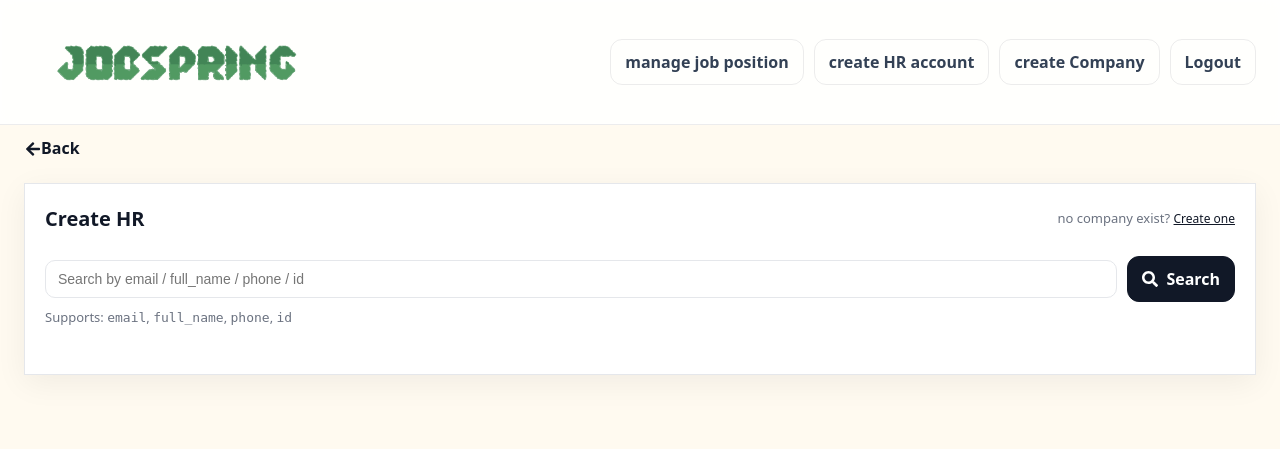
Scenario: shows backend error message on search failure
Type "x" into the field with placeholder "Search by email / full_name / phone / id" at (581, 279), box [45, 260, 1117, 298]
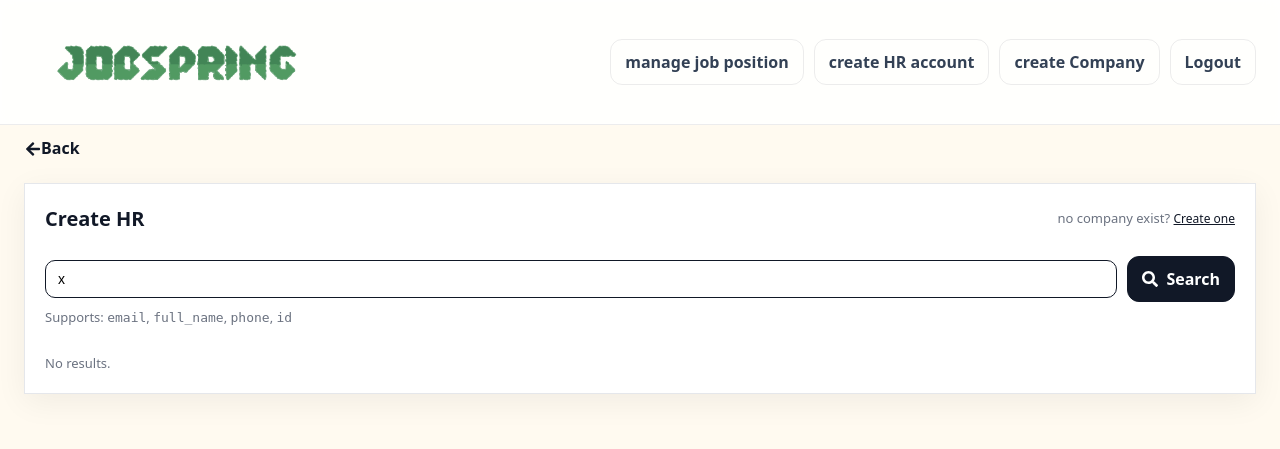
Click the button "Search" at (1181, 279), box [1127, 256, 1235, 302]
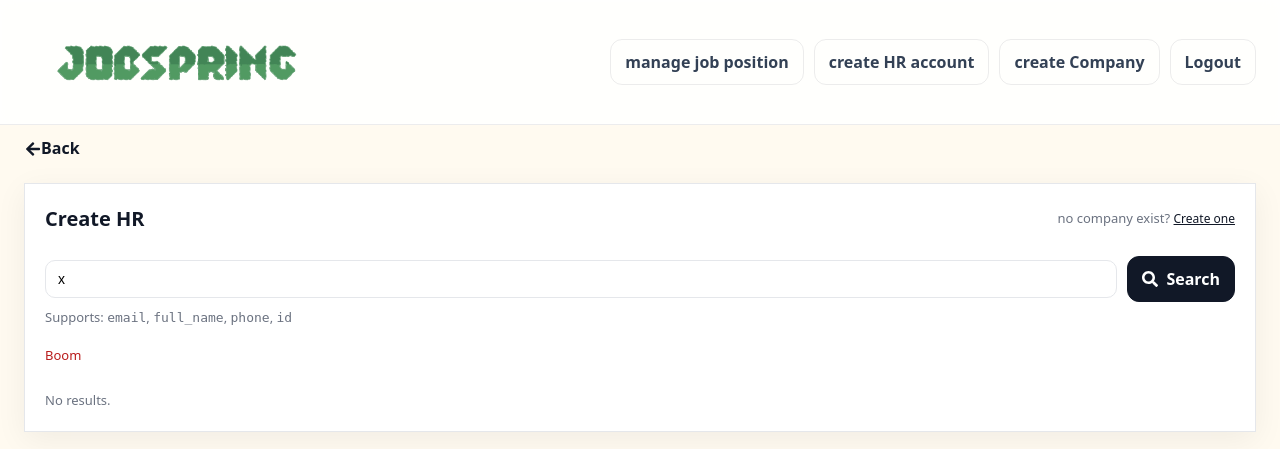
Expected: the text "Boom" is shown, [45, 346, 81, 364]
